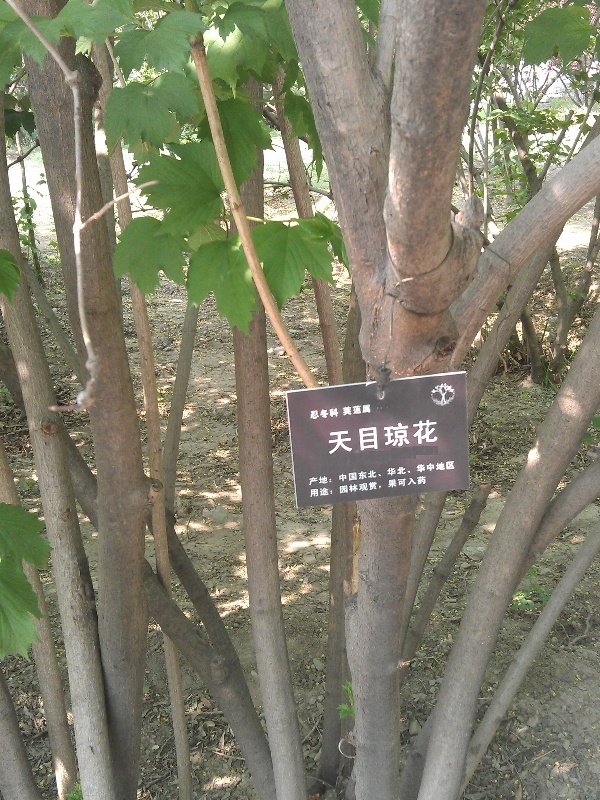text: (337, 418, 352, 456), (353, 418, 368, 456), (369, 418, 384, 456), (385, 418, 400, 456), (401, 418, 416, 456), (417, 418, 432, 456), (321, 461, 336, 487), (337, 461, 352, 487), (353, 461, 368, 487), (369, 461, 384, 487), (385, 461, 400, 487), (401, 461, 416, 487), (417, 461, 432, 487), (433, 461, 448, 487), (321, 476, 336, 499), (337, 476, 352, 499), (353, 476, 368, 499), (369, 476, 384, 499), (385, 476, 400, 499), (401, 476, 416, 499), (327, 418, 336, 456), (309, 461, 320, 487), (310, 476, 320, 499), (417, 476, 427, 499), (433, 418, 439, 456), (321, 407, 336, 421), (353, 404, 368, 417), (449, 461, 456, 487), (309, 407, 320, 421), (342, 404, 352, 417), (337, 407, 340, 421), (369, 404, 372, 417)
